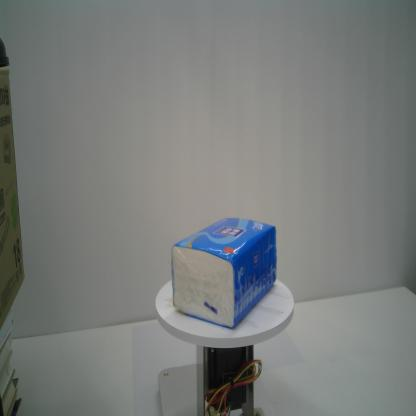Tissue: (170, 216, 278, 329)
